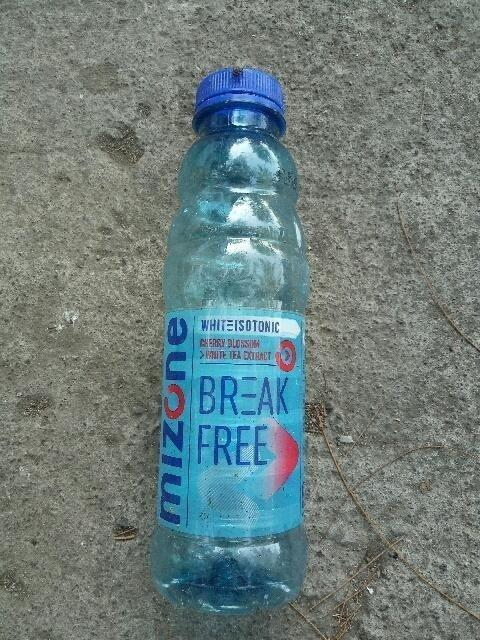bottle-plastic: (145, 64, 316, 618)
